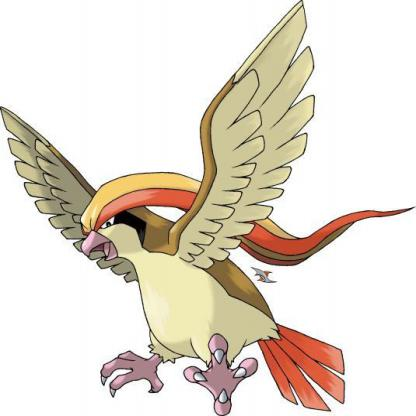Pidgeot: (1, 15, 416, 416)
